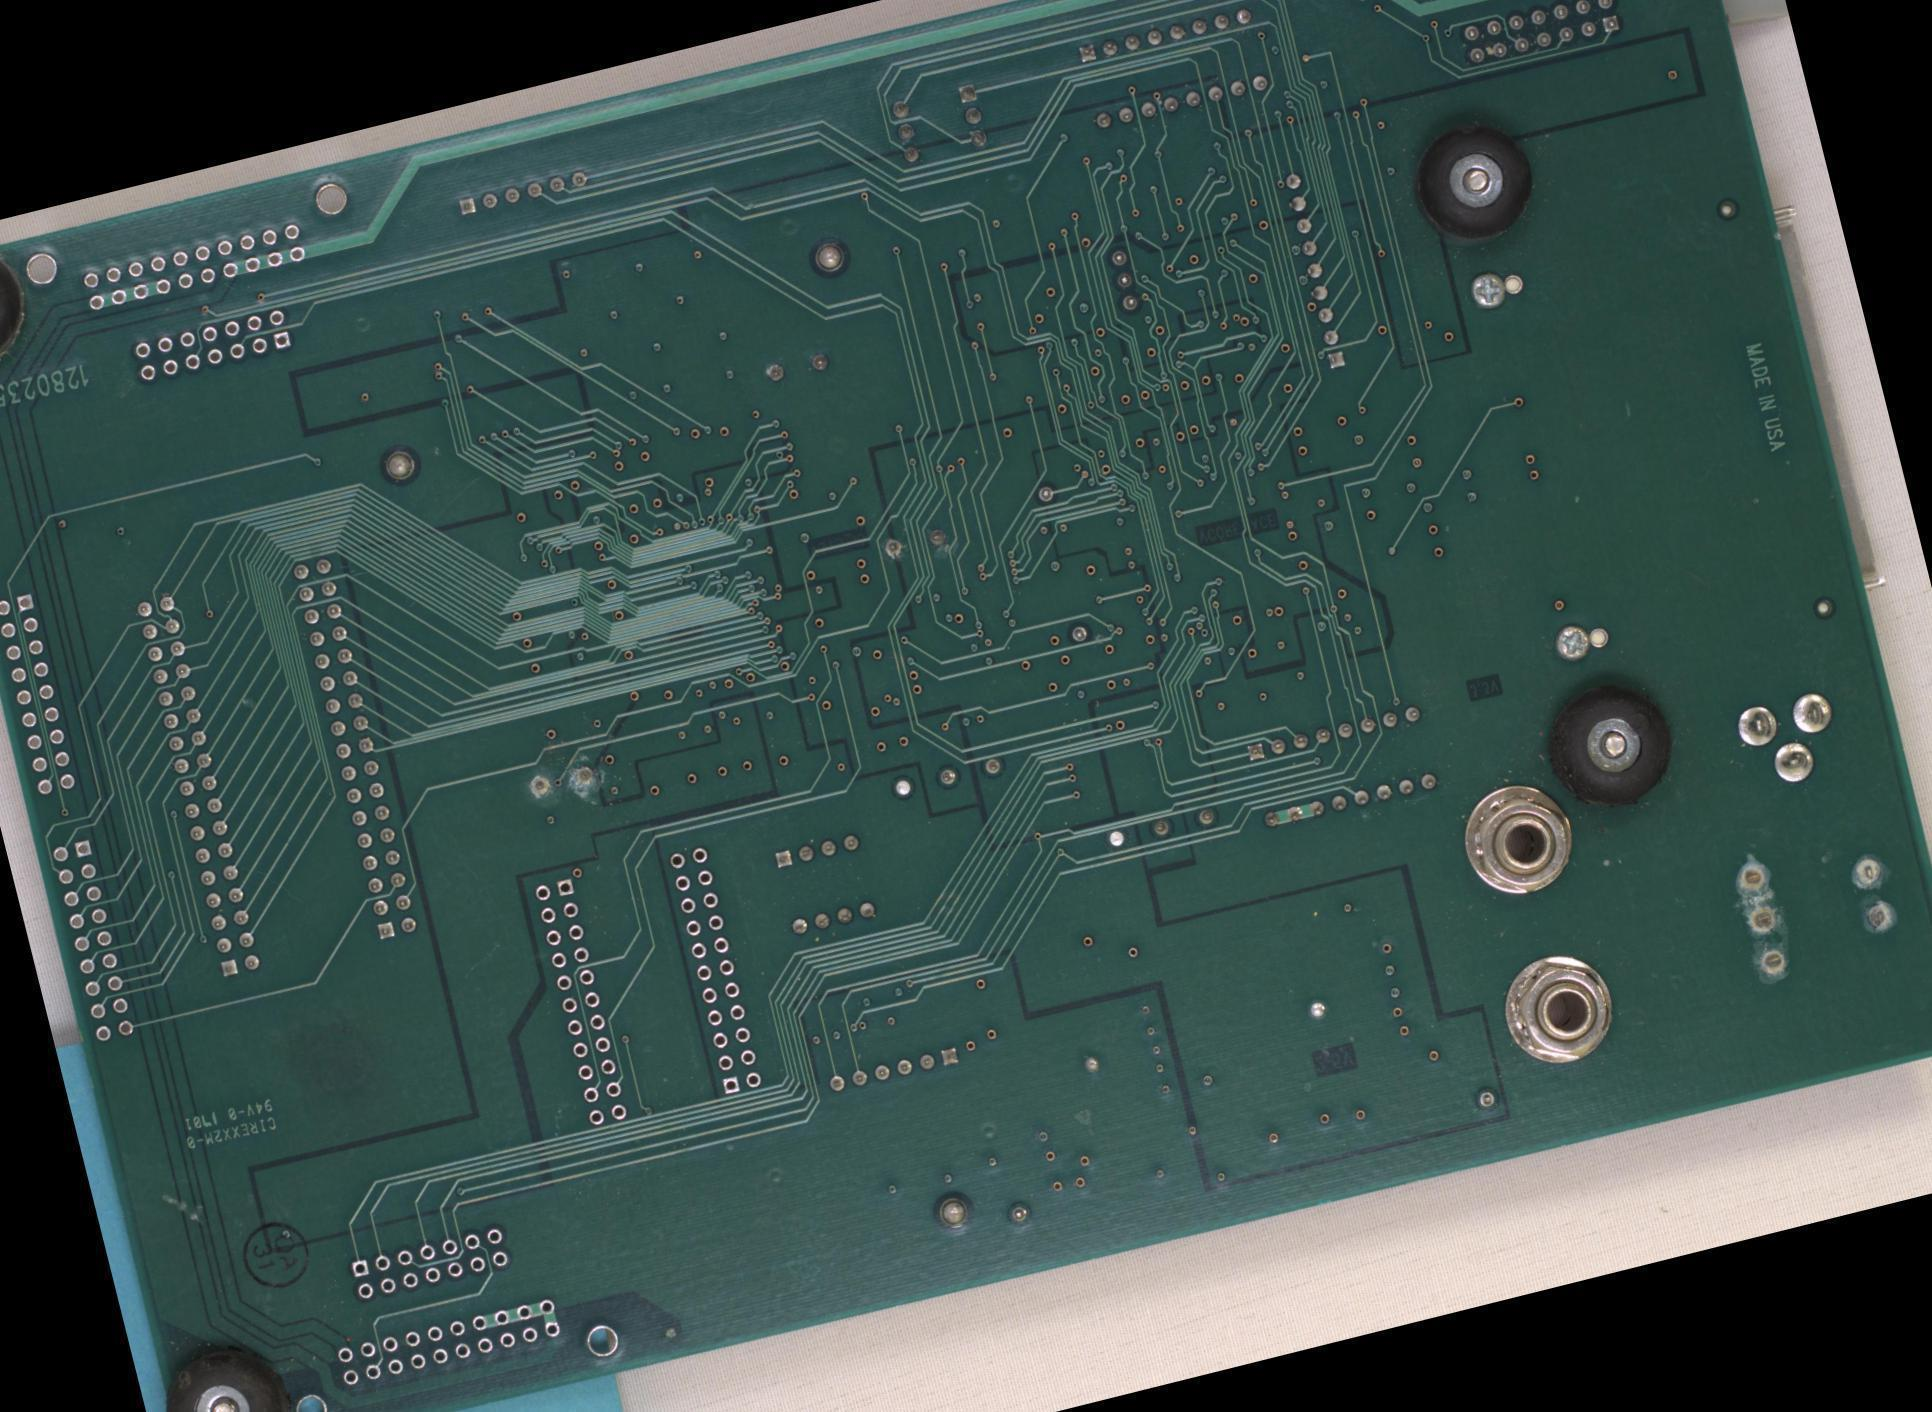Connector: (524, 871, 633, 1131), (663, 839, 769, 1100), (327, 1286, 567, 1397), (73, 213, 312, 319), (1485, 941, 1630, 1076), (47, 835, 138, 1046), (1449, 771, 1585, 909), (0, 586, 81, 803), (342, 1217, 515, 1307), (125, 302, 296, 389)
Pins: (283, 547, 426, 946), (127, 591, 268, 981), (1064, 0, 1279, 146), (1238, 693, 1448, 839), (1726, 823, 1907, 990), (1274, 163, 1359, 379), (1722, 671, 1857, 806), (1450, 0, 1629, 74), (766, 828, 881, 941), (1028, 475, 1096, 649), (881, 76, 995, 170), (823, 1038, 965, 1102), (883, 746, 1013, 809), (453, 166, 591, 220), (1102, 800, 1219, 853), (876, 515, 957, 570), (757, 342, 835, 393), (524, 757, 601, 804), (1103, 240, 1145, 320), (998, 1193, 1036, 1231), (1467, 1077, 1501, 1116)
